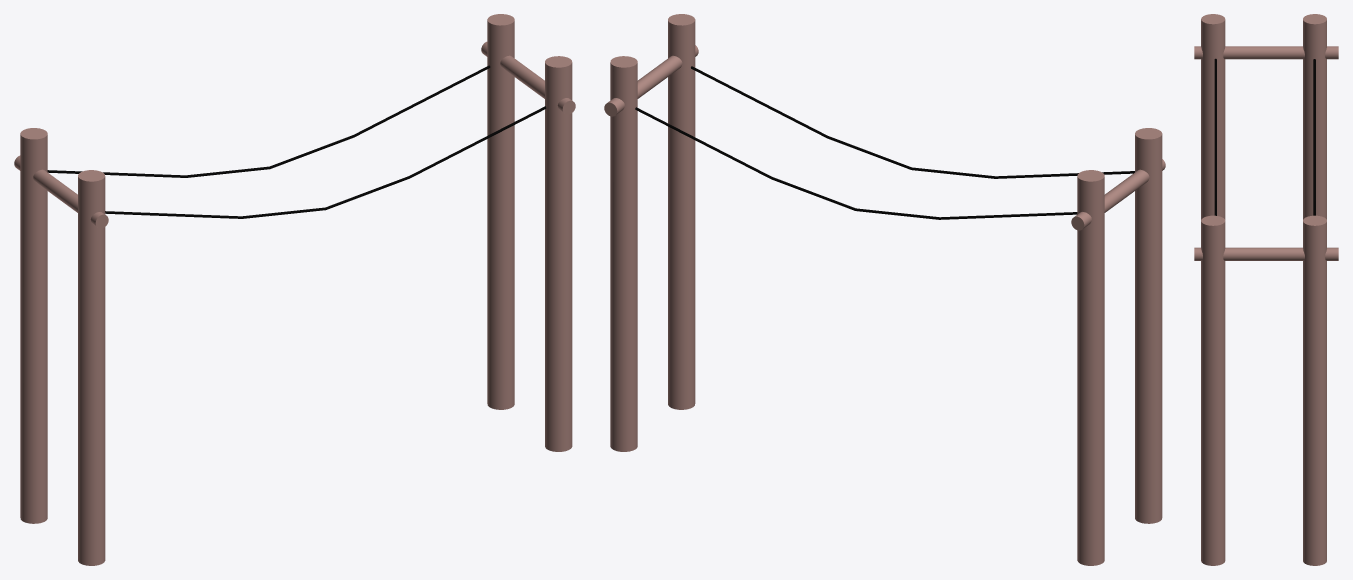
Rendered from telephone wires.fbx.
3 renders of one model, left to right at view 1: azimuth 30°, elevation 25°; view 2: azimuth 150°, elevation 25°; view 3: azimuth 270°, elevation 25°, orthographic. The views are drawn at different scales.
Parts seen in each view (by area): view 1: polySurface969; view 2: polySurface969; view 3: polySurface969.
Boxes of the visible parts, x1,y1,x2,y2 form: polySurface969: (14, 14, 575, 565); polySurface969: (604, 14, 1165, 565); polySurface969: (1194, 14, 1338, 565).
Bounding box in the file's own units: 60.16 × 45.02 × 17.29.
